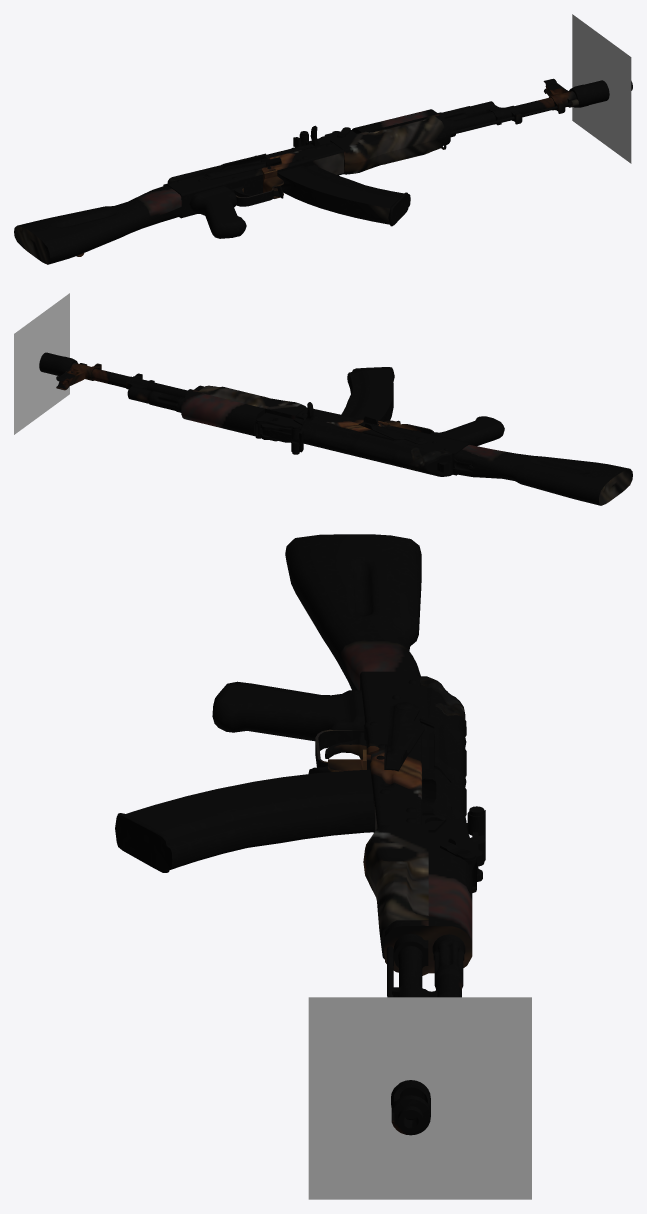
3 views of the same model, one above another, from view 1: azimuth 30°, elevation 25°; view 2: azimuth 150°, elevation 25°; view 3: azimuth 270°, elevation 25° (orthographic). The views are drawn at different scales.
Visible parts, largest first — view 1: gunModel, flashModel, ammoModel; view 2: gunModel, flashModel, ammoModel, slideModel; view 3: gunModel, flashModel, ammoModel, slideModel.
Boxes of the visible parts, box(x1,y1,x2,y2) form: gunModel: box(14, 78, 632, 264); flashModel: box(572, 14, 631, 163); ammoModel: box(277, 165, 410, 226); gunModel: box(39, 352, 632, 505); flashModel: box(14, 293, 69, 434); ammoModel: box(341, 367, 394, 421); slideModel: box(302, 402, 357, 438); gunModel: box(212, 534, 485, 1135); flashModel: box(308, 997, 531, 1199); ammoModel: box(115, 769, 374, 872); slideModel: box(422, 769, 451, 820).
Bounding box in the file's own units: 43.27 × 7.2 × 13.44.
